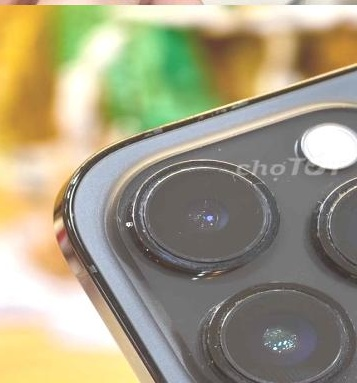scratch: (193, 299, 293, 383), (115, 182, 176, 263), (225, 154, 293, 196)
